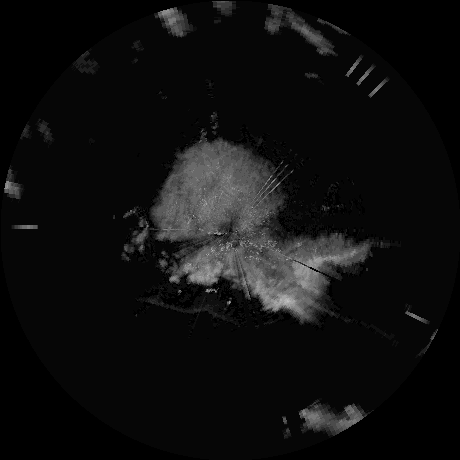frontgust: (144, 293, 238, 323)
